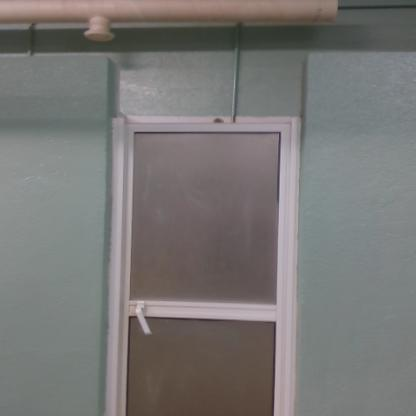door: (122, 124, 292, 415)
lever: (132, 302, 154, 334)
